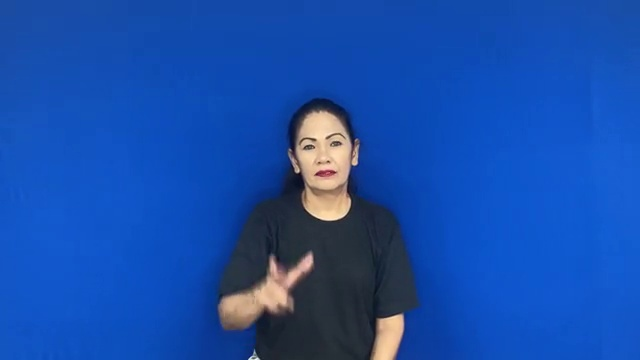chicken: (242, 243, 326, 326)
